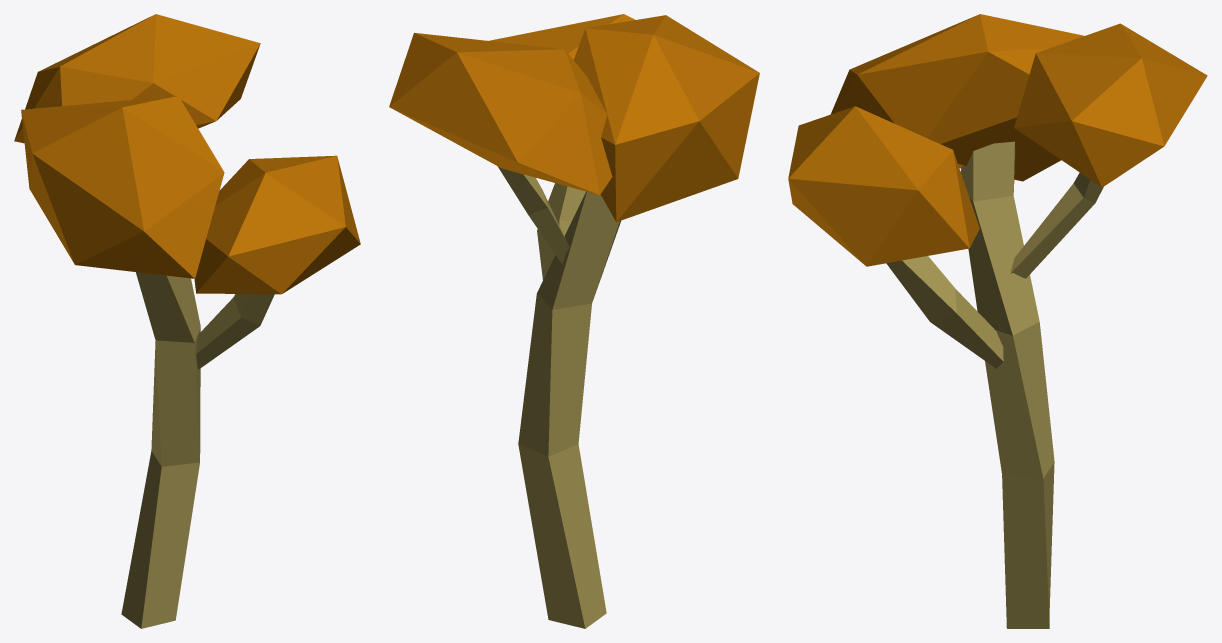
Rendered from Tree_Fall_6.fbx.
The picture shows the model from 3 angles, left to right: view 1: azimuth 30°, elevation 25°; view 2: azimuth 150°, elevation 25°; view 3: azimuth 270°, elevation 25°; orthographic projection. The views are drawn at different scales.
Parts seen in each view (by area): view 1: Leaves.002, Trunk, Leaves.001, Leaves, Trunk.002; view 2: Leaves.002, Trunk, Leaves, Trunk.001, Leaves.001, Trunk.002; view 3: Trunk, Leaves.001, Leaves.002, Leaves, Trunk.002, Trunk.001.
Part boxes in pixels (bbox=[...]): Leaves.002: bbox=[21, 96, 224, 278]; Trunk: bbox=[121, 272, 200, 628]; Leaves.001: bbox=[194, 155, 360, 294]; Leaves: bbox=[14, 14, 260, 143]; Trunk.002: bbox=[196, 294, 274, 369]; Leaves.002: bbox=[574, 15, 759, 221]; Trunk: bbox=[518, 191, 620, 628]; Leaves: bbox=[389, 32, 612, 195]; Trunk.001: bbox=[497, 166, 569, 264]; Leaves.001: bbox=[489, 14, 635, 59]; Trunk.002: bbox=[537, 183, 585, 279]; Trunk: bbox=[960, 141, 1054, 628]; Leaves.001: bbox=[788, 106, 979, 266]; Leaves.002: bbox=[830, 14, 1084, 181]; Leaves: bbox=[1014, 23, 1207, 187]; Trunk.002: bbox=[886, 256, 1003, 368]; Trunk.001: bbox=[1010, 172, 1103, 278].
Size of the model in its own units: 137 by 286 by 183.
